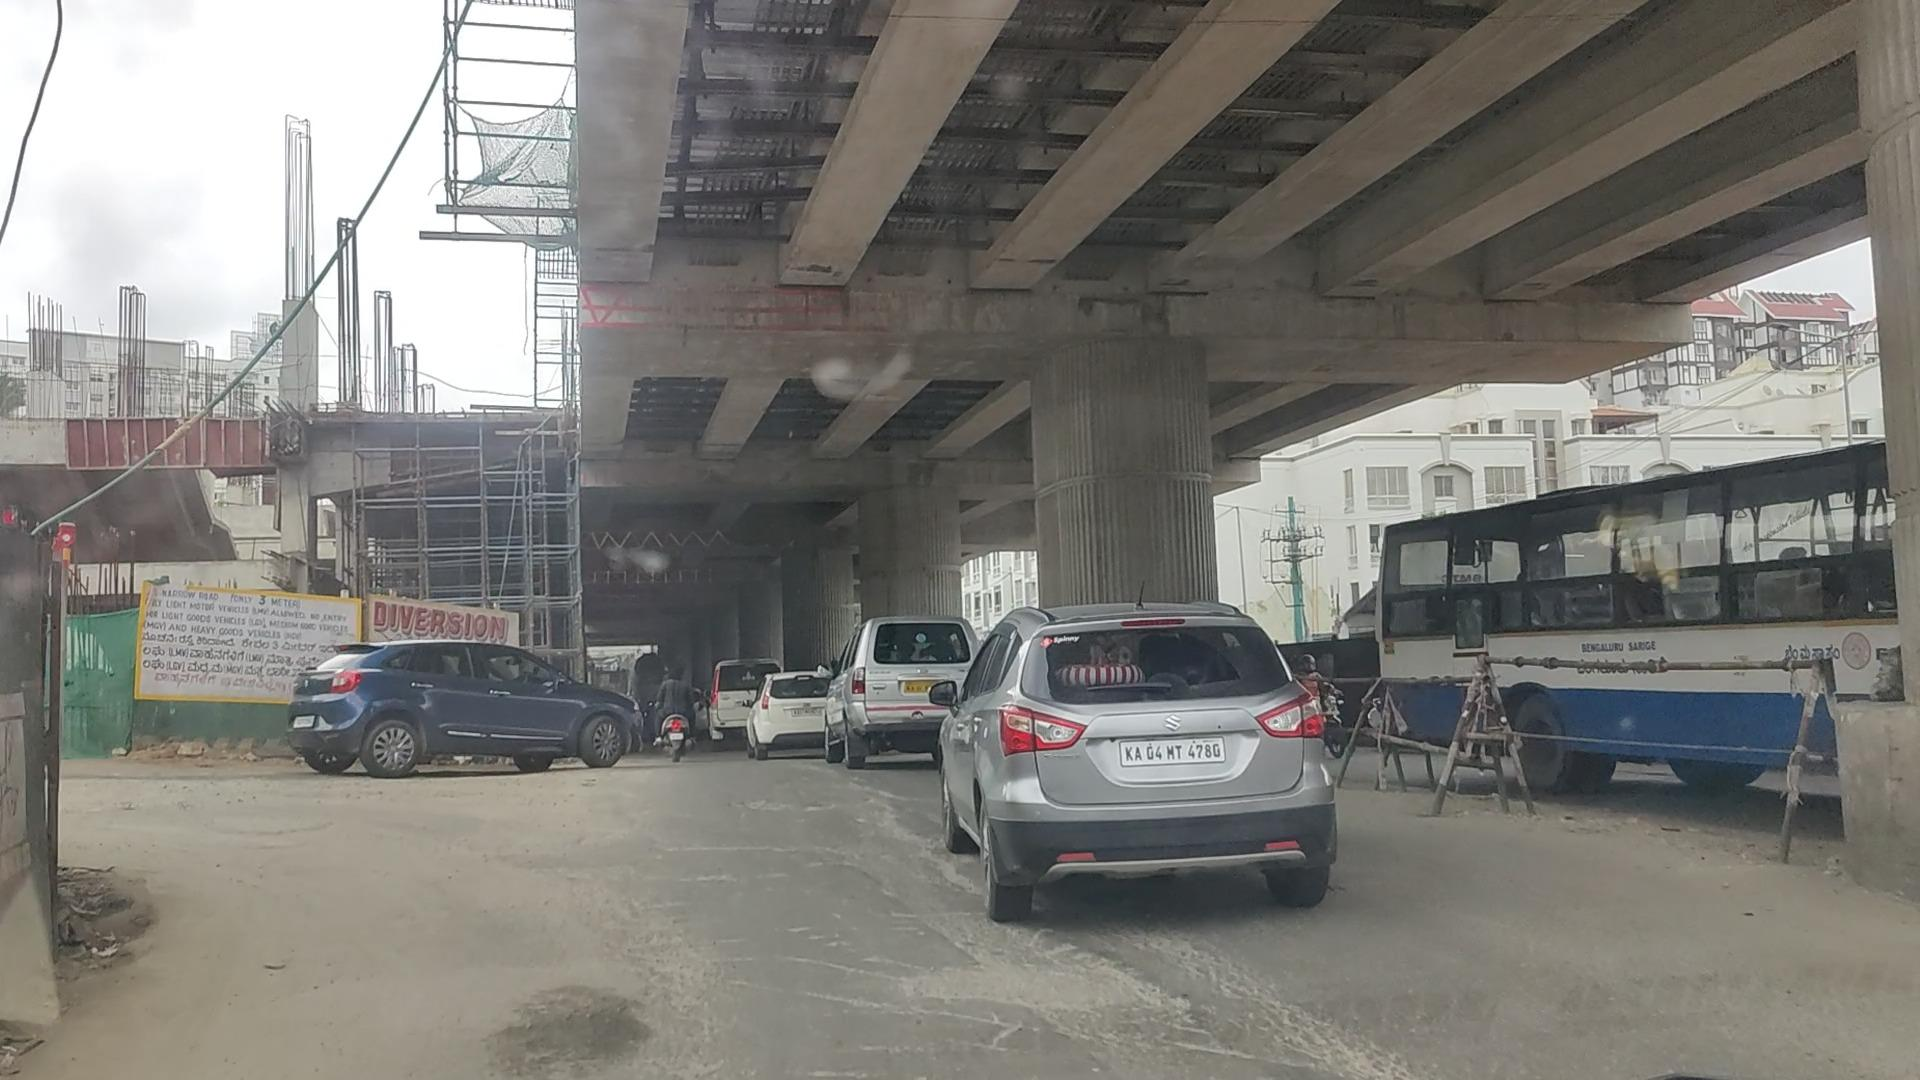LMV: (955, 604, 1331, 909), (839, 616, 967, 740), (746, 666, 833, 752), (657, 666, 699, 760)
RoadDamages: (876, 910, 1349, 1080), (839, 770, 947, 897), (736, 781, 837, 822)
